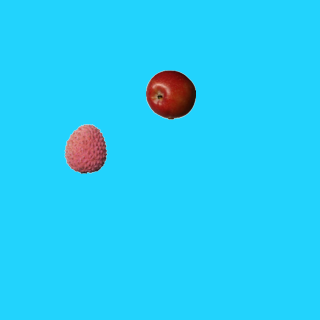Apple Braeburn: (145, 69, 195, 119)
Lychee: (60, 123, 110, 173)
